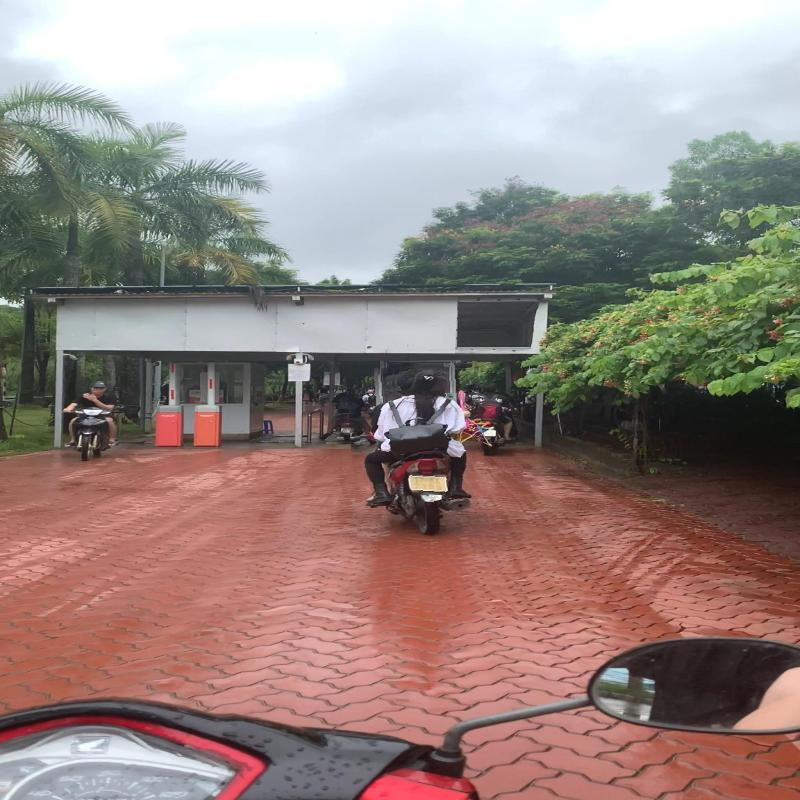licenseplate: (404, 473, 454, 495)
motorcyclist: (348, 363, 486, 540)
nohelmet: (410, 368, 454, 394), (394, 368, 422, 391)
